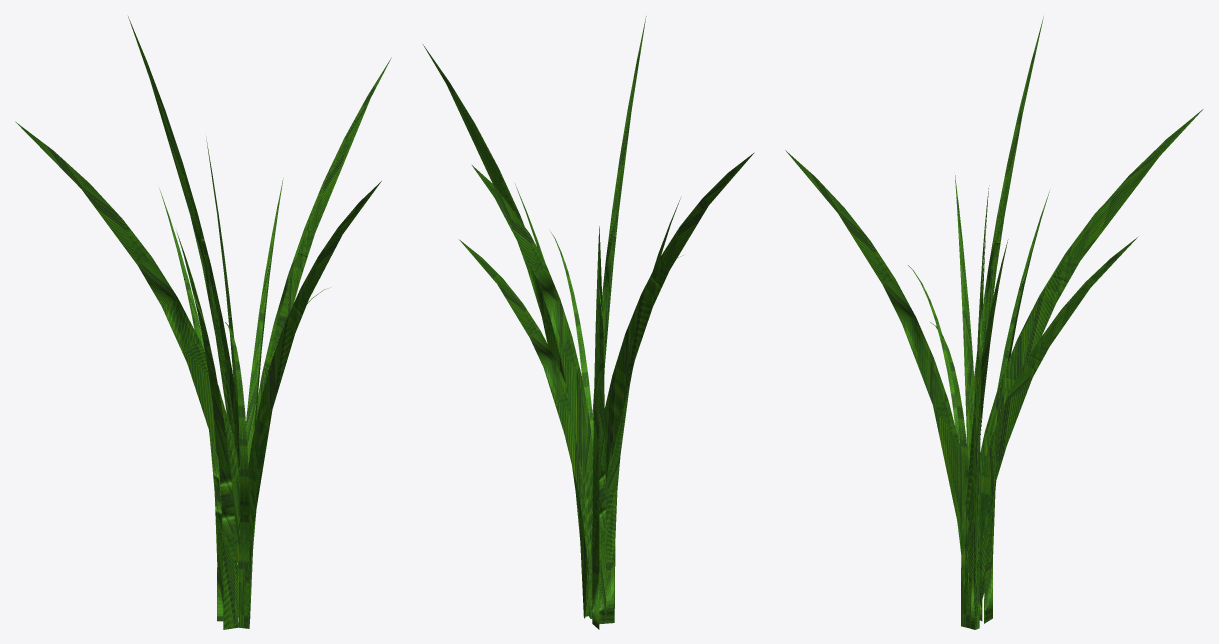
Rendered from Grass.FBX.
3 views of the same model, side by side, from view 1: azimuth 30°, elevation 25°; view 2: azimuth 150°, elevation 25°; view 3: azimuth 270°, elevation 25° (orthographic). The views are drawn at different scales.
Parts seen in each view (by area): view 1: Mesh9, Mesh13, Mesh17, Mesh12, Mesh10, Mesh15, Mesh18, Mesh16, Mesh11; view 2: Mesh10, Mesh9, Mesh18, Mesh11, Mesh12, Mesh17, Mesh13, Mesh14; view 3: Mesh13, Mesh10, Mesh11, Mesh9, Mesh12, Mesh18, Mesh16, Mesh17, Mesh14, Mesh15.
Part boxes in pixels (x1,y1,x2,y2): Mesh9: (15, 121, 249, 579); Mesh13: (248, 181, 381, 588); Mesh17: (177, 233, 238, 629); Mesh12: (249, 57, 391, 623); Mesh10: (128, 16, 250, 611); Mesh15: (223, 322, 249, 628); Mesh18: (159, 189, 223, 621); Mesh16: (237, 179, 283, 620); Mesh11: (206, 139, 238, 462); Mesh10: (472, 165, 593, 618); Mesh9: (604, 152, 754, 483); Mesh18: (592, 226, 606, 629); Mesh11: (459, 239, 592, 618); Mesh12: (423, 44, 588, 618); Mesh17: (599, 196, 681, 624); Mesh13: (588, 16, 646, 615); Mesh14: (550, 231, 593, 448); Mesh13: (785, 150, 968, 592); Mesh10: (968, 109, 1202, 620); Mesh11: (969, 236, 1138, 626); Mesh9: (968, 16, 1043, 467); Mesh12: (970, 185, 989, 629); Mesh18: (981, 191, 1049, 623); Mesh16: (966, 239, 1008, 629); Mesh17: (955, 175, 982, 620); Mesh14: (930, 322, 970, 628); Mesh15: (908, 265, 959, 443).
Bounding box in the file's own units: 6.43 × 6.75 × 9.19.
1 material, 1 textured.
